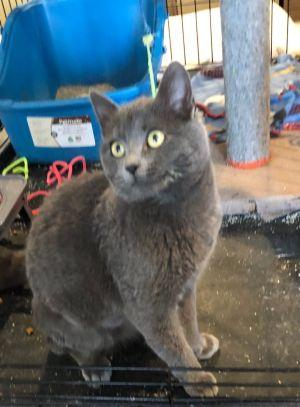rblue: (82, 58, 213, 207)
